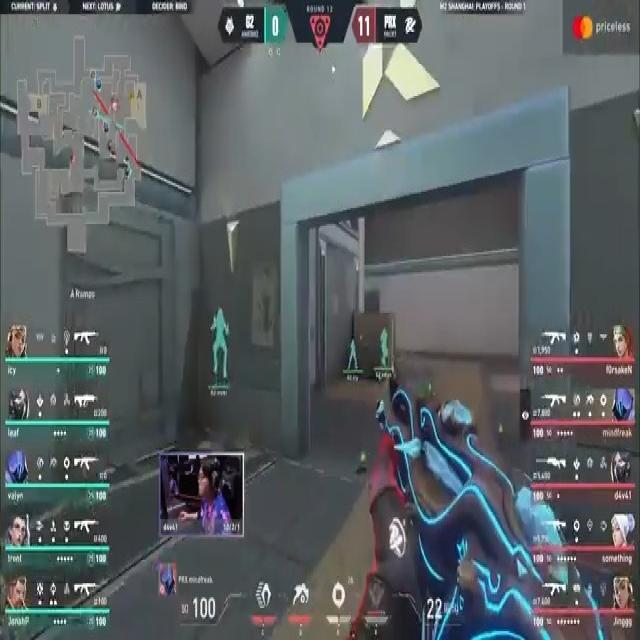ally behind wall: (207, 308, 236, 384), (346, 335, 361, 381), (379, 328, 391, 366)
